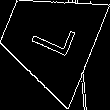L_NW: (21, 15, 76, 63)
